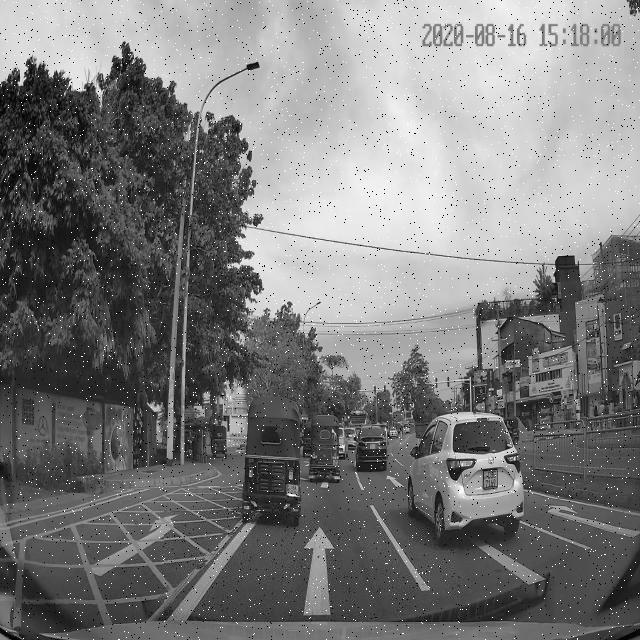forward: (164, 512, 459, 623)
